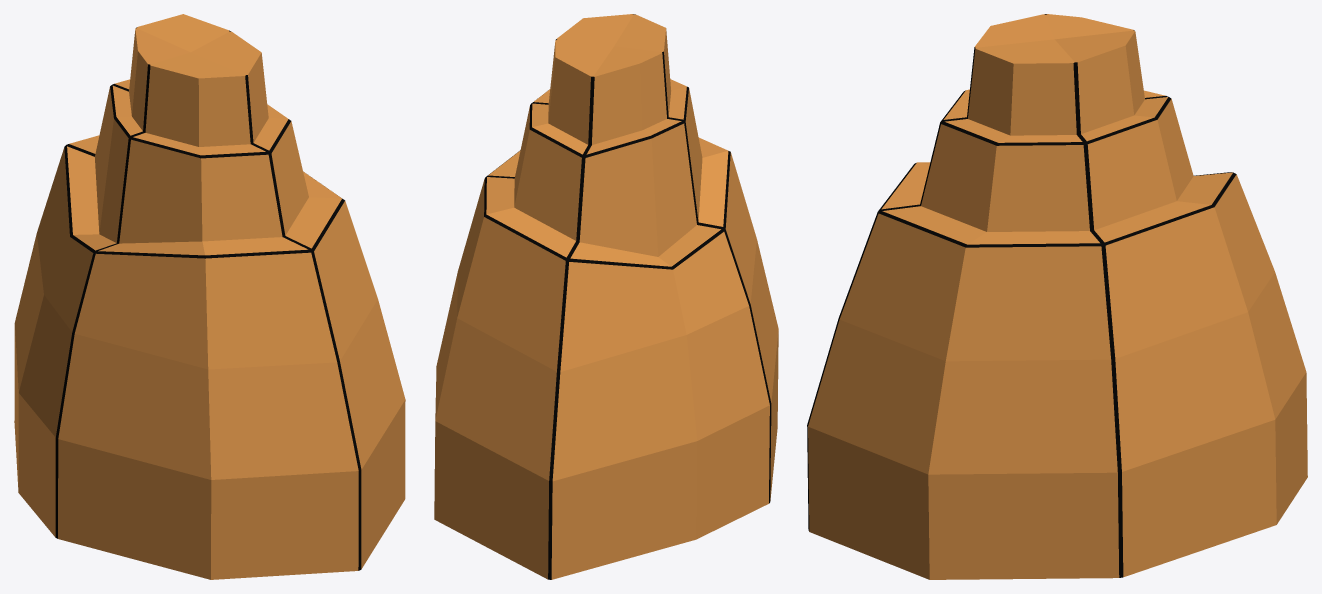
The model's file is PaperRock01.fbx.
3 renders of one model, left to right at view 1: azimuth 30°, elevation 25°; view 2: azimuth 150°, elevation 25°; view 3: azimuth 270°, elevation 25°, orthographic. The views are drawn at different scales.
Parts seen in each view (by area): view 1: Plane.014; view 2: Plane.014; view 3: Plane.014.
Part boxes in pixels (<box>): Plane.014: <box>14,14,405,579</box>; Plane.014: <box>434,14,778,579</box>; Plane.014: <box>807,14,1307,579</box>.
Size of the model in its own units: 4573 by 6538 by 6274.
